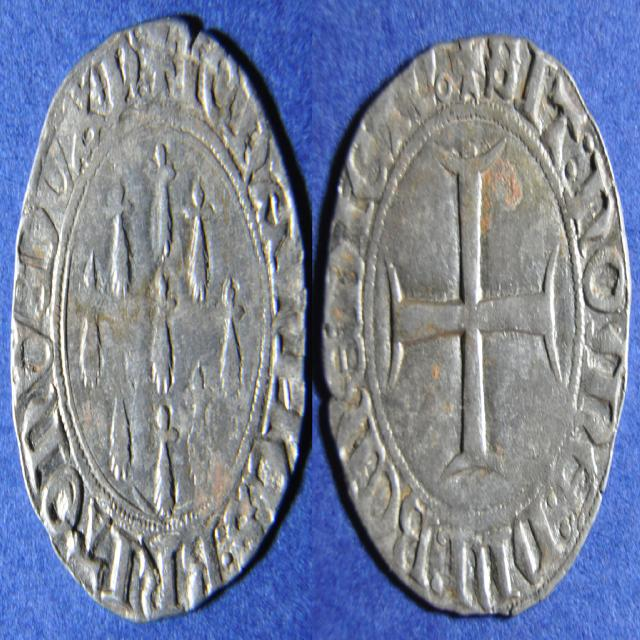Coin: (11, 9, 307, 624), (326, 25, 628, 619)
